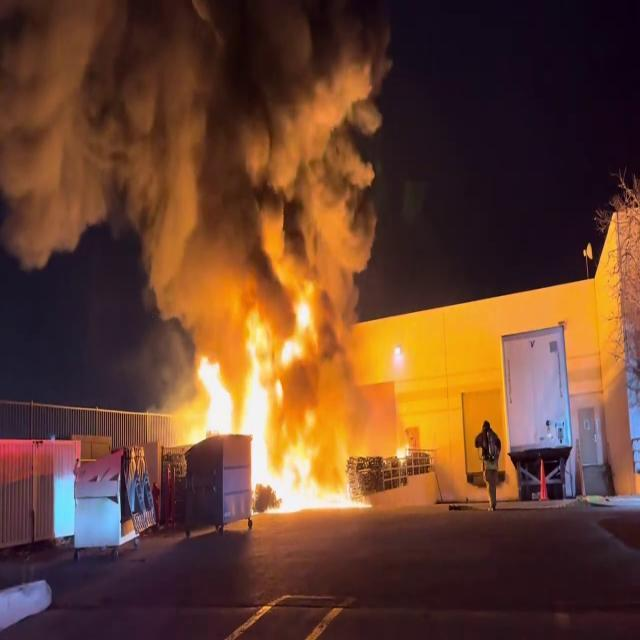Fire: (170, 256, 372, 514)
Smoke: (0, 1, 394, 327)
